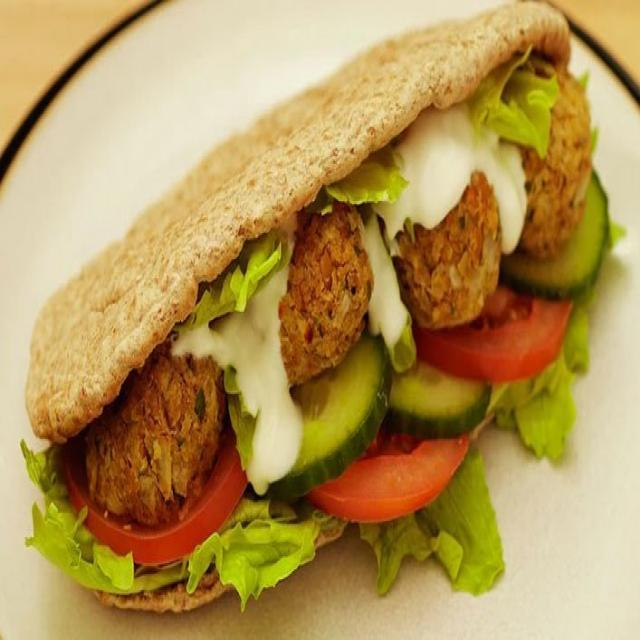flafel: (86, 352, 231, 526), (380, 169, 504, 321), (503, 63, 593, 259)
